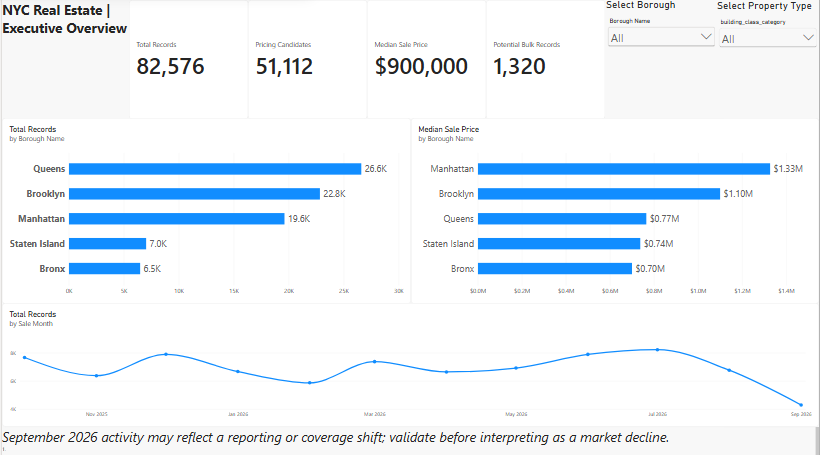

Layout of this report page (visuals, bound fields, positions):
{"tool":"powerbi","page":{"name":"Executive Overview","canvas":[1920,1080],"ordinal":0},"visuals":[{"type":"cardVisual","fields":{"Data":["real_estate_analytical.Total Records"]},"box":[298.1,2.1,280,280],"z":0},{"type":"cardVisual","fields":{"Data":["real_estate_analytical.Pricing Candidates"]},"box":[577.5,2.1,280,280],"z":1000},{"type":"cardVisual","fields":{"Data":["real_estate_analytical.Median Sale Price"]},"box":[856.9,2.1,280,280],"z":2000},{"type":"cardVisual","fields":{"Data":["real_estate_analytical.Potential Bulk Records"]},"box":[1138.4,2.1,280,280],"z":3000},{"type":"clusteredBarChart","fields":{"Category":["real_estate_analytical.Borough Name"],"Y":["real_estate_analytical.Total Records"]},"box":[0,279.7,961.2,437.1],"z":4000},{"type":"clusteredBarChart","fields":{"Category":["real_estate_analytical.Borough Name"],"Y":["real_estate_analytical.Median Sale Price"]},"box":[961.2,279.7,958.8,437.1],"z":5000},{"type":"lineChart","fields":{"Category":["real_estate_analytical.Sale Month"],"Y":["real_estate_analytical.Total Records"]},"box":[0,714.4,1920,291.4],"z":6000},{"type":"slicer","title":"Select Borough","fields":{"Values":["real_estate_analytical.Borough Name"]},"box":[1419.8,0,260.6,206.4],"z":7000},{"type":"slicer","title":"Select Property Type","fields":{"Values":["real_estate_analytical.building_class_category"]},"box":[1680.5,2.1,239.8,206.4],"z":8000},{"type":"textbox","box":[0,2,298,277],"z":9000},{"type":"textbox","box":[0,1006.1,1920,72.9],"z":9001}]}

Visuals, with their boxes in screenshot pixels (x1, y1, x2, y2), scaled from the page's 1920x1080 canvas onto the 822x455 screenshot:
cardVisual - real_estate_analytical.Total Records: x1=128, y1=1, x2=247, y2=119
cardVisual - real_estate_analytical.Pricing Candidates: x1=247, y1=1, x2=367, y2=119
cardVisual - real_estate_analytical.Median Sale Price: x1=367, y1=1, x2=487, y2=119
cardVisual - real_estate_analytical.Potential Bulk Records: x1=487, y1=1, x2=607, y2=119
clusteredBarChart - real_estate_analytical.Borough Name x real_estate_analytical.Total Records: x1=0, y1=118, x2=412, y2=302
clusteredBarChart - real_estate_analytical.Borough Name x real_estate_analytical.Median Sale Price: x1=412, y1=118, x2=821, y2=302
lineChart - real_estate_analytical.Sale Month x real_estate_analytical.Total Records: x1=0, y1=301, x2=821, y2=424
"Select Borough" slicer: x1=608, y1=0, x2=719, y2=87
"Select Property Type" slicer: x1=719, y1=1, x2=821, y2=88
textbox: x1=0, y1=1, x2=128, y2=118
textbox: x1=0, y1=424, x2=821, y2=454
